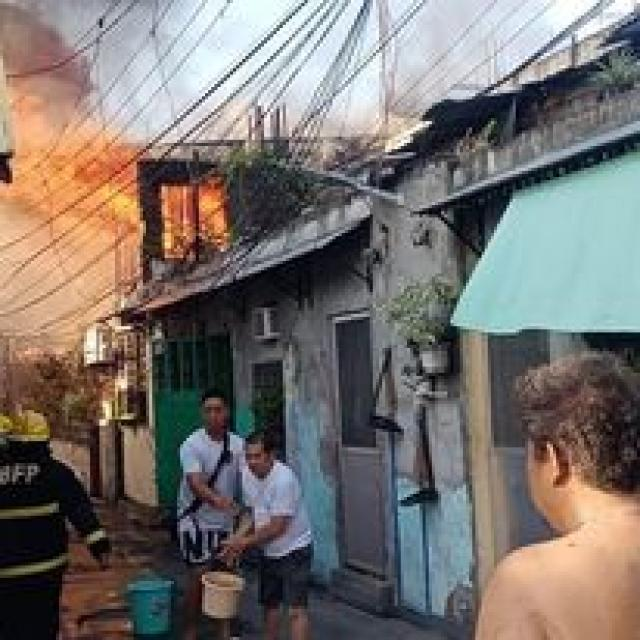Fire: (8, 0, 138, 236), (163, 185, 223, 250)
